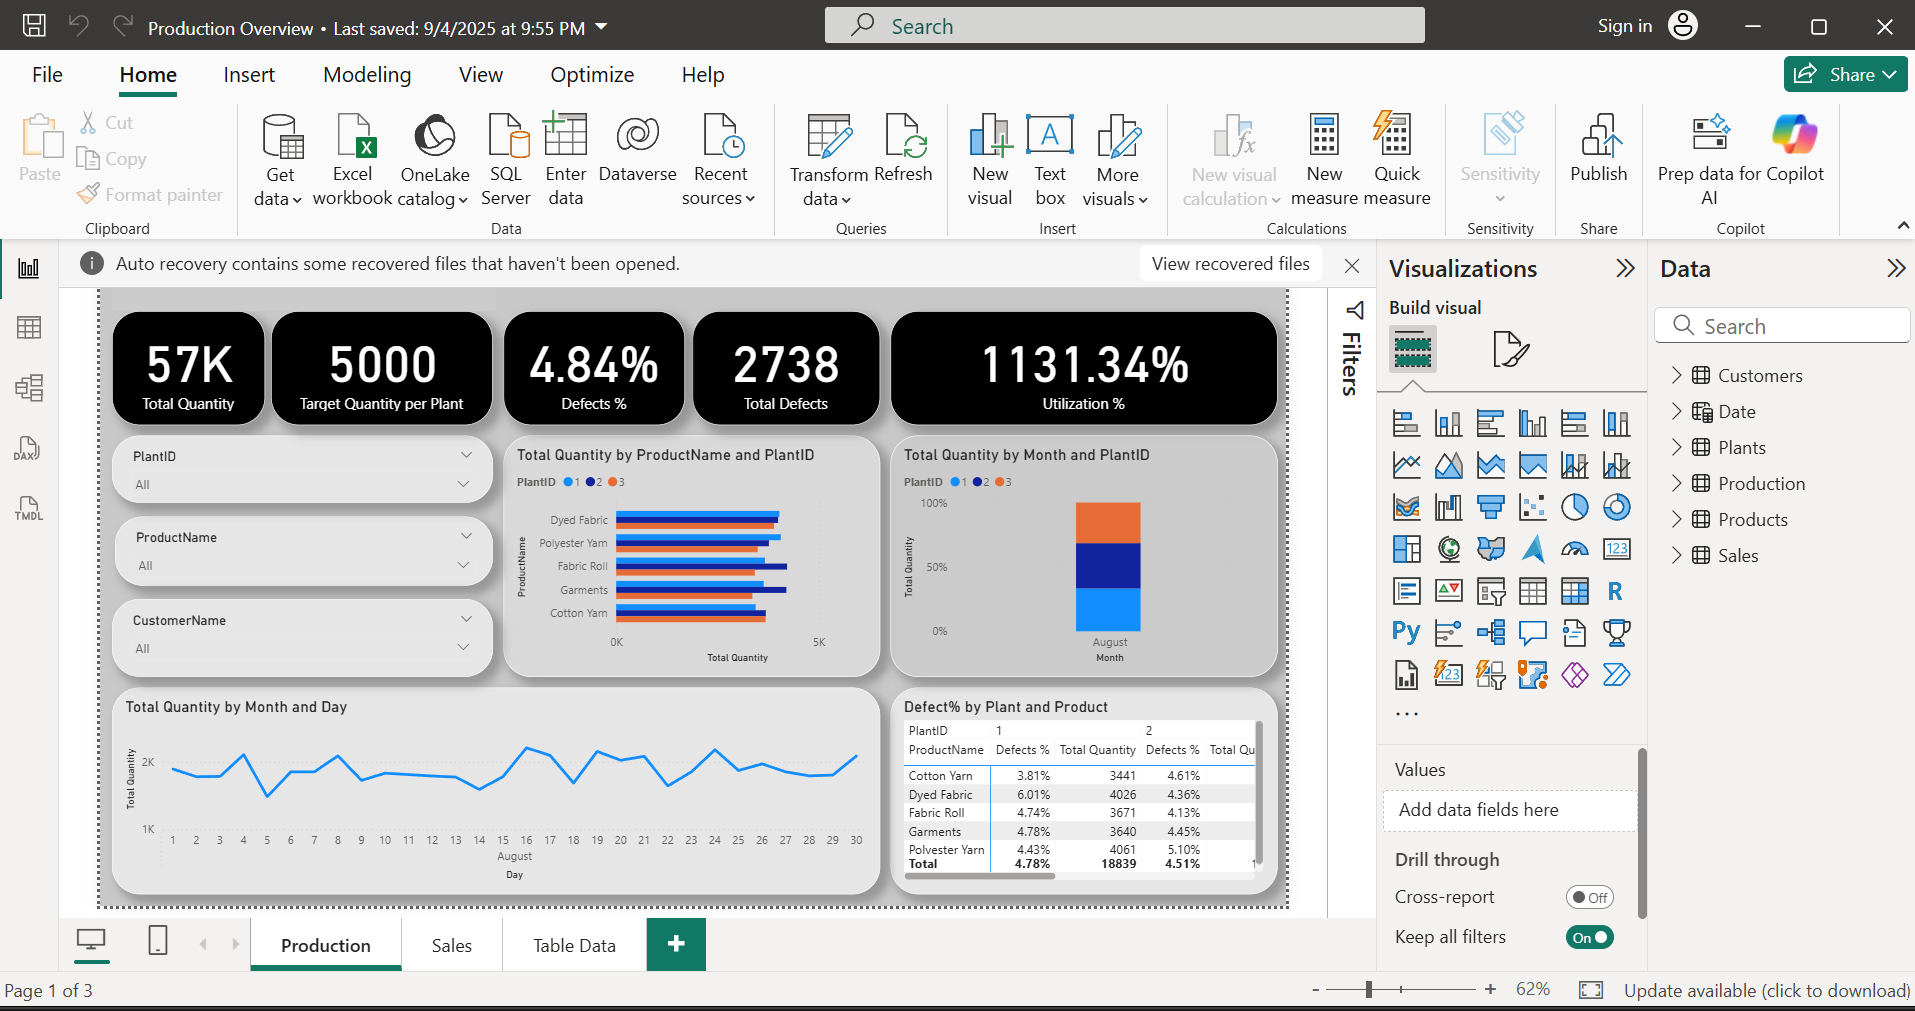

The dashboard page shown, as its layout file describes it:
{"tool":"powerbi","page":{"name":"Production","canvas":[1280,720],"ordinal":0},"visuals":[{"type":"pivotTable","title":"Defect% by Plant and Product","fields":{"Values":["Production.Defects %","Production.Total Quantity"],"Columns":["Production.PlantID"],"Rows":["Products.ProductName"]},"box":[853.3,484.1,417.8,223.5],"z":0},{"type":"clusteredBarChart","fields":{"Category":["Products.ProductName"],"Y":["Production.Total Quantity"],"Series":["Plants.PlantID"]},"box":[435.6,212.1,406.4,260.7],"z":1000},{"type":"card","fields":{"Values":["Production.Total Quantity"]},"box":[13,77.7,165.2,123.1],"z":2000},{"type":"card","fields":{"Values":["Production.Total Defects"]},"box":[639.6,77.7,202.4,123.1],"z":3000},{"type":"card","fields":{"Values":["Production.Defects %"]},"box":[435.6,77.7,195.9,123.1],"z":4000},{"type":"card","fields":{"Values":["Production.Utilization %"]},"box":[853.3,77.7,417.8,123.1],"z":5000},{"type":"slicer","fields":{"Values":["Products.ProductName"]},"box":[16.2,299.6,408,74.5],"z":6000},{"type":"slicer","fields":{"Values":["Production.PlantID"]},"box":[13,212.1,411.3,72.9],"z":7000},{"type":"card","title":"Per Plant","fields":{"Values":["Production.Target Quantity"]},"box":[184.6,77.7,239.6,123.1],"z":8000},{"type":"hundredPercentStackedColumnChart","fields":{"Y":["Production.Total Quantity"],"Category":["Production.Date.Variation.Date Hierarchy.Month"],"Series":["Plants.PlantID"]},"box":[853.3,212.1,417.8,260.7],"z":9000},{"type":"lineChart","fields":{"Category":["Production.Date.Variation.Date Hierarchy.Month","Production.Date.Variation.Date Hierarchy.Day"],"Y":["Production.Total Quantity"]},"box":[13,484.1,829,223.5],"z":10000},{"type":"textbox","box":[13,0,414.5,77.7],"z":11000},{"type":"slicer","fields":{"Values":["Customers.CustomerName"]},"box":[13,388.6,411.3,84.2],"z":12000}]}

Visuals, with their boxes on the page's 1280x720 design canvas (x1, y1, x2, y2). These are canvas units, not pixel positions in the 1915x1011 screenshot, which may show the page scaled, cropped or inside an application window:
"Defect% by Plant and Product" pivotTable: left=853, top=484, right=1271, bottom=708
clusteredBarChart - Products.ProductName x Production.Total Quantity: left=436, top=212, right=842, bottom=473
card - Production.Total Quantity: left=13, top=78, right=178, bottom=201
card - Production.Total Defects: left=640, top=78, right=842, bottom=201
card - Production.Defects %: left=436, top=78, right=632, bottom=201
card - Production.Utilization %: left=853, top=78, right=1271, bottom=201
slicer - Products.ProductName: left=16, top=300, right=424, bottom=374
slicer - Production.PlantID: left=13, top=212, right=424, bottom=285
"Per Plant" card: left=185, top=78, right=424, bottom=201
hundredPercentStackedColumnChart - Production.Total Quantity x Production.Date.Variation.Date Hierarchy.Month: left=853, top=212, right=1271, bottom=473
lineChart - Production.Date.Variation.Date Hierarchy.Month x Production.Date.Variation.Date Hierarchy.Day: left=13, top=484, right=842, bottom=708
textbox: left=13, top=0, right=428, bottom=78
slicer - Customers.CustomerName: left=13, top=389, right=424, bottom=473
